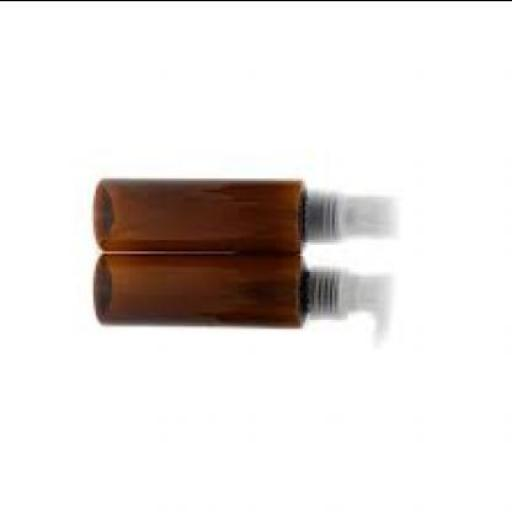glass: (95, 180, 307, 254), (96, 255, 310, 327)
plastic: (310, 269, 393, 341), (300, 194, 399, 243)
